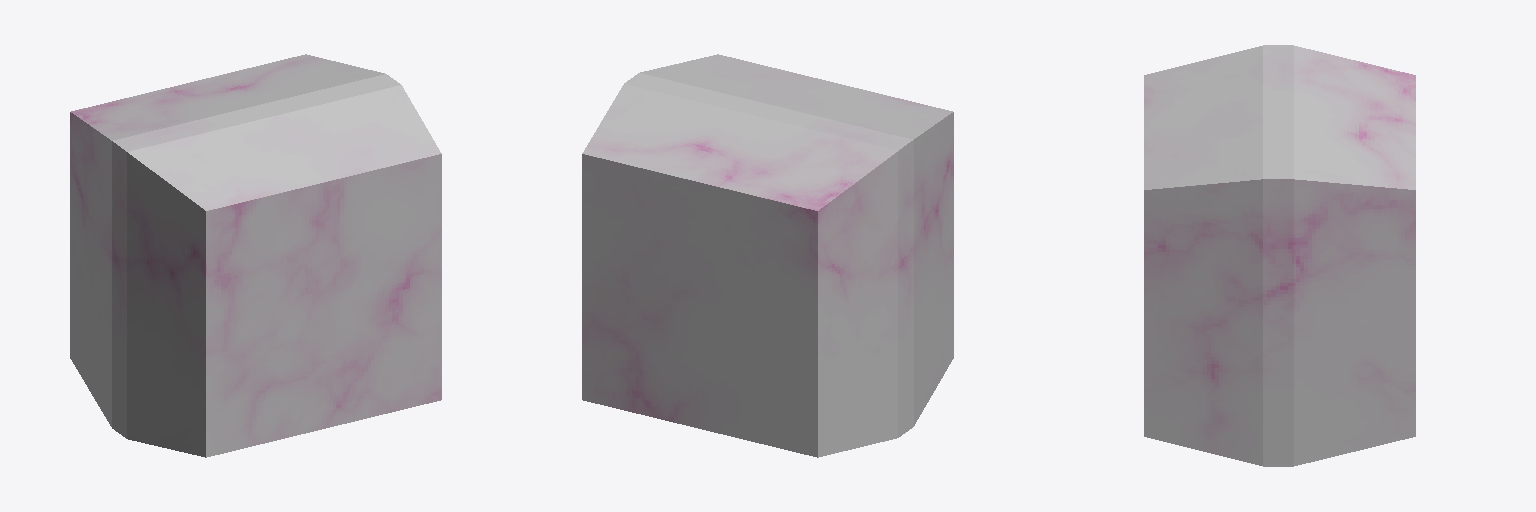
3 renders of one model, left to right at view 1: azimuth 30°, elevation 25°; view 2: azimuth 150°, elevation 25°; view 3: azimuth 270°, elevation 25°, orthographic.
Parts seen in each view (by area): view 1: Cube; view 2: Cube; view 3: Cube.
Boxes of the visible parts, box(x1,y1,x2,y2) form: Cube: box(70, 54, 441, 457); Cube: box(582, 54, 953, 457); Cube: box(1144, 45, 1415, 466).
Size of the model in its own units: 1.38 by 1.38 by 1.19.
1 materials, 1 textured.